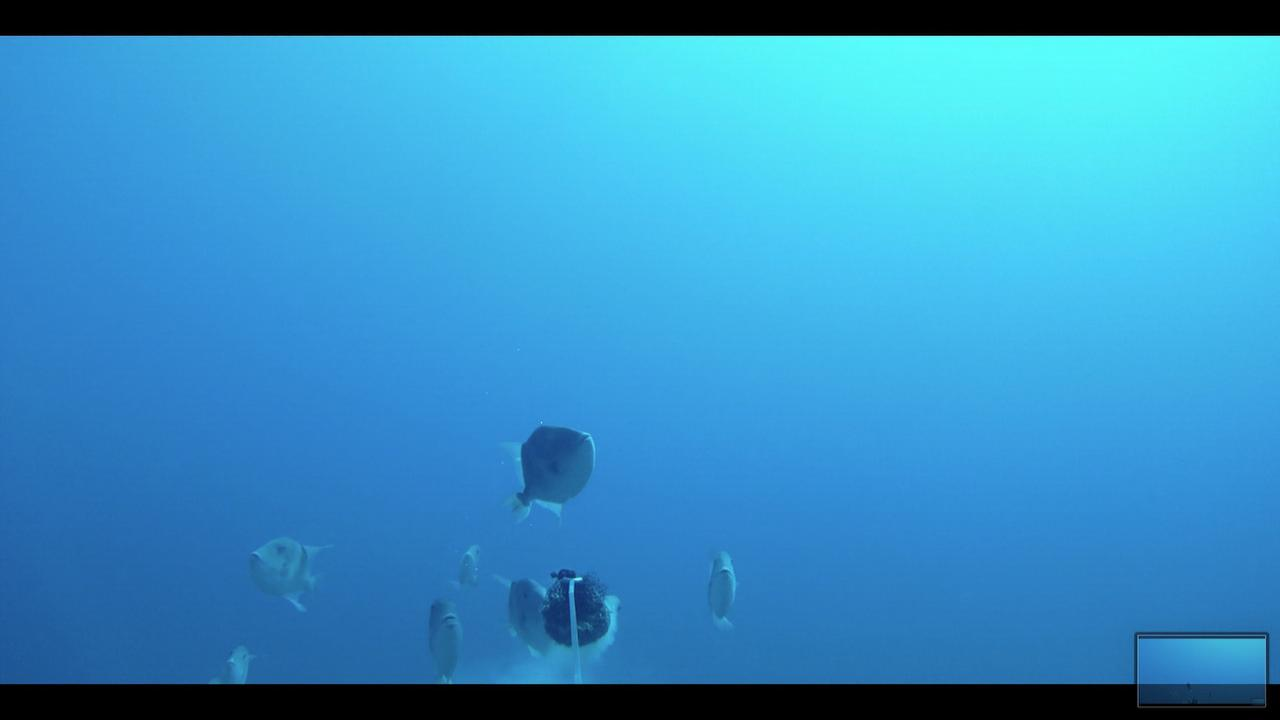balistes: (497, 417, 599, 523), (242, 531, 340, 619), (477, 562, 565, 660), (413, 587, 472, 681), (697, 541, 745, 636), (191, 636, 277, 682)
